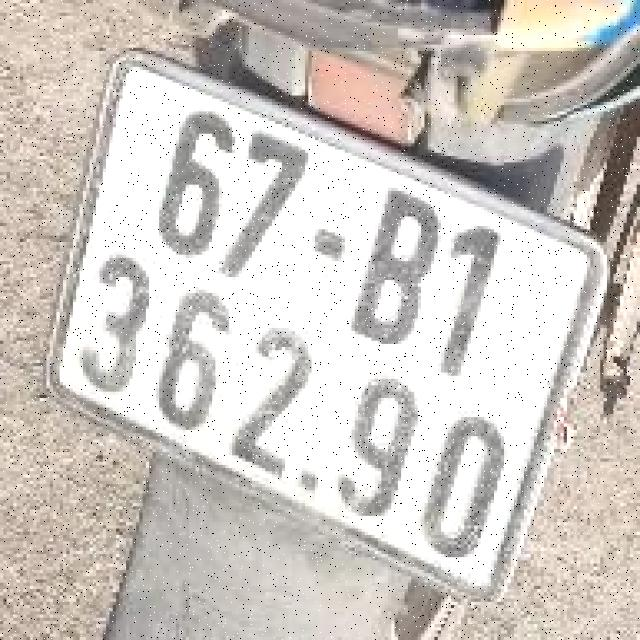0: (418, 400, 524, 565)
1: (433, 199, 502, 393)
2: (234, 312, 316, 478)
3: (63, 248, 153, 408)
6: (141, 105, 240, 271), (147, 292, 250, 448)
7: (224, 116, 310, 298)
9: (327, 360, 422, 541)
B: (345, 162, 444, 363)
